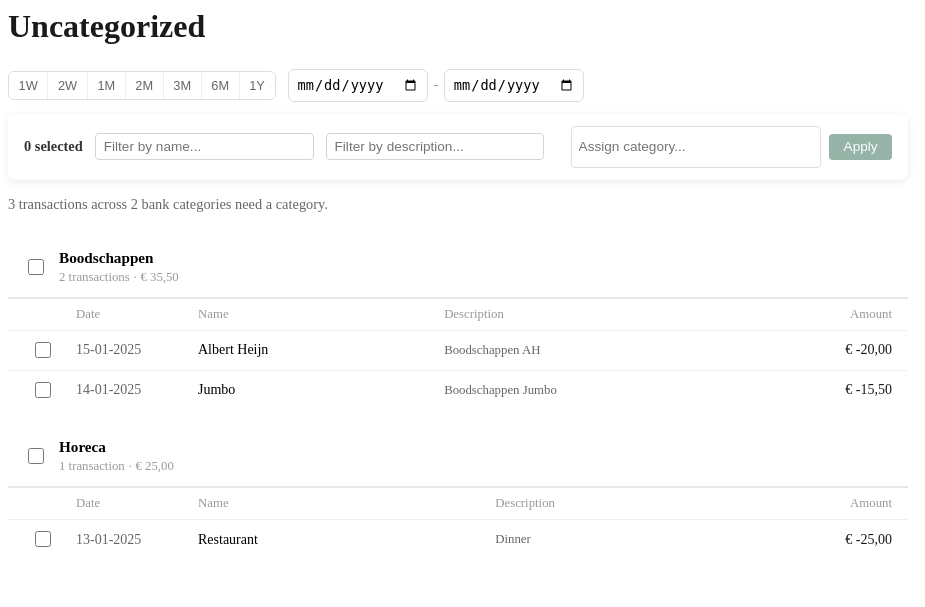
Test case: Uncategorized Page › deselects all in group when all are selected and group checkbox clicked
This screenshot has width=925, height=607.
Expected: the text "Albert Heijn" is shown, [182,330,428,370]
// Select both transactions individually
Click the checkbox next to "15-01-2025" at (42,350), box [34,342,50,358]
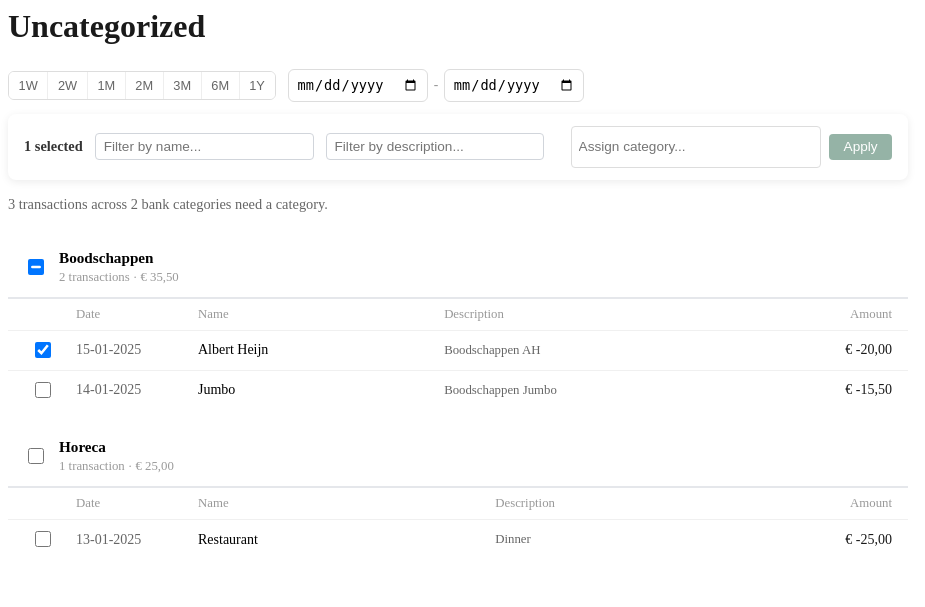
Click the checkbox next to "14-01-2025" at (42,390), box [34,382,50,398]
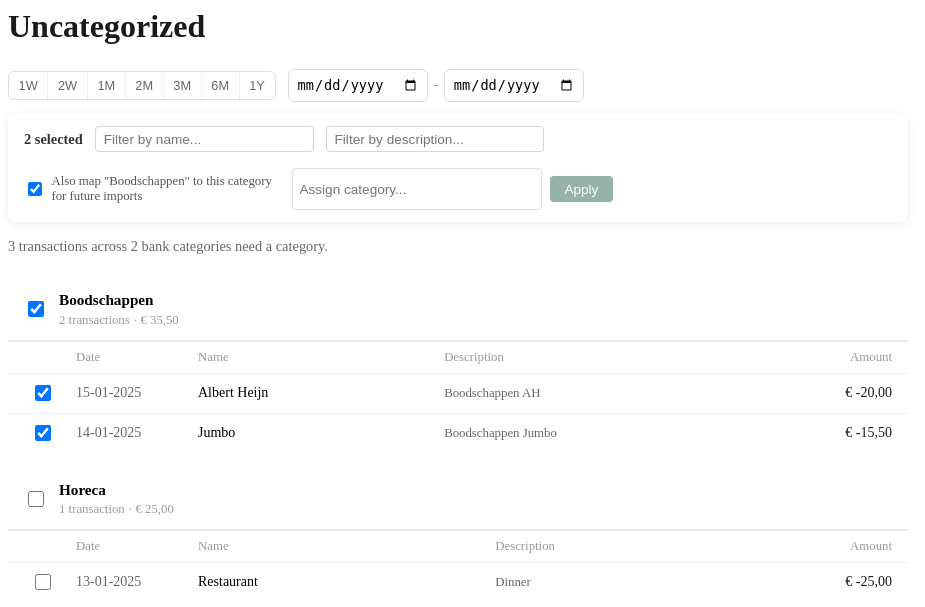
Expected: the text "2 selected" is shown, [24,131,83,148]
// Click group checkbox to deselect all
Click the checkbox next to "2 transactions · € 35,50" at (36,310), box [28,302,44,318]
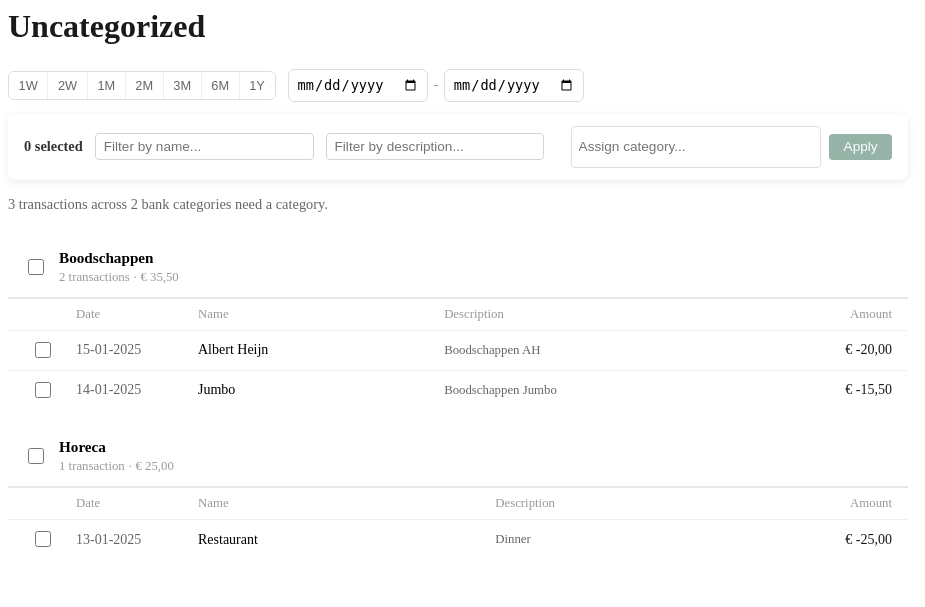
Expected: the text "0 selected" is shown, [24,138,83,155]
